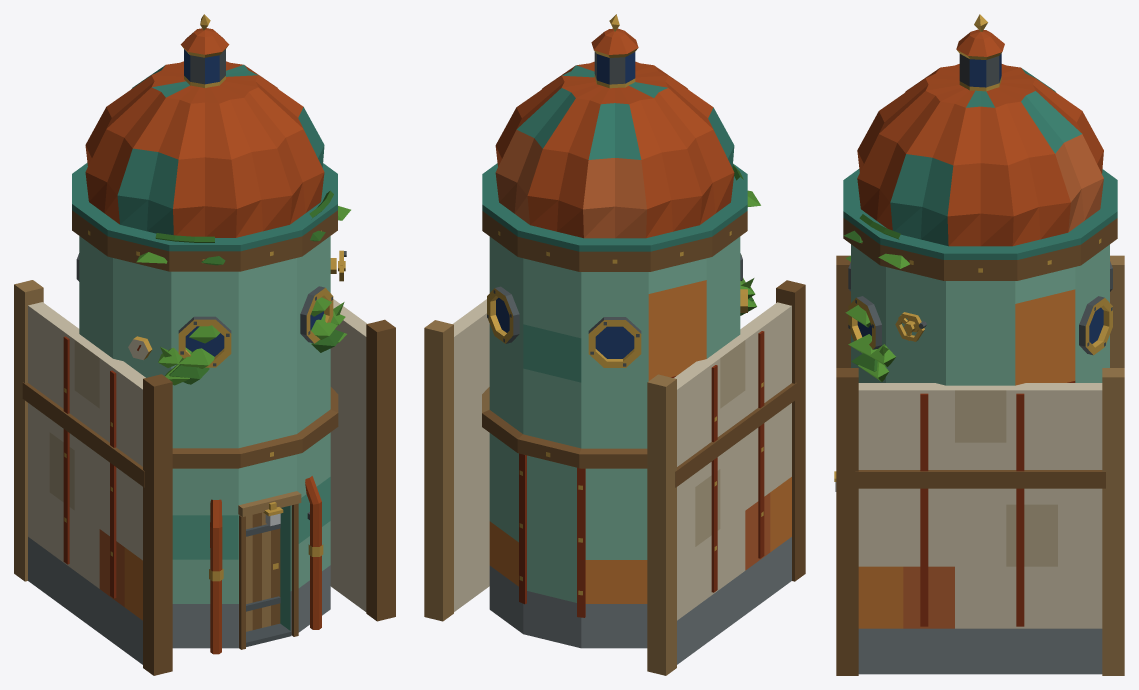
The model's file is copper-dome-dwelling-dc8848.glb.
3 renders of one model, left to right at view 1: azimuth 30°, elevation 25°; view 2: azimuth 150°, elevation 25°; view 3: azimuth 270°, elevation 25°, orthographic. The views are drawn at different scales.
Parts seen in each view (by area): view 1: house; view 2: house; view 3: house, valve-wheel-mesh.
Part boxes in pixels (x1=…): house: x1=14, y1=14, x2=395, y2=675; house: x1=424, y1=14, x2=805, y2=675; house: x1=834, y1=14, x2=1124, y2=675; valve-wheel-mesh: x1=895, y1=312, x2=926, y2=341.
Bounding box in the file's own units: 4.02 × 9.19 × 4.03.
